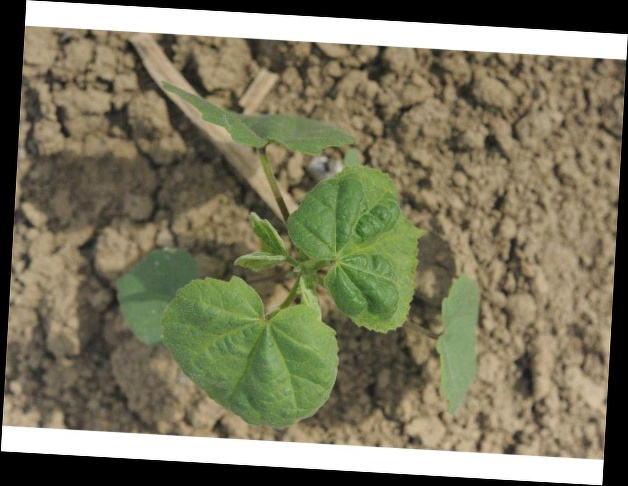velvet: (117, 88, 483, 426)
